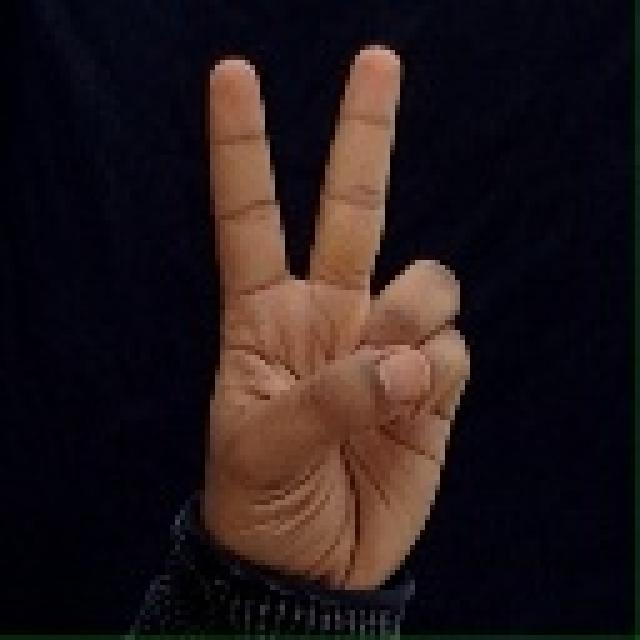Numeric-2: (196, 40, 478, 578)
